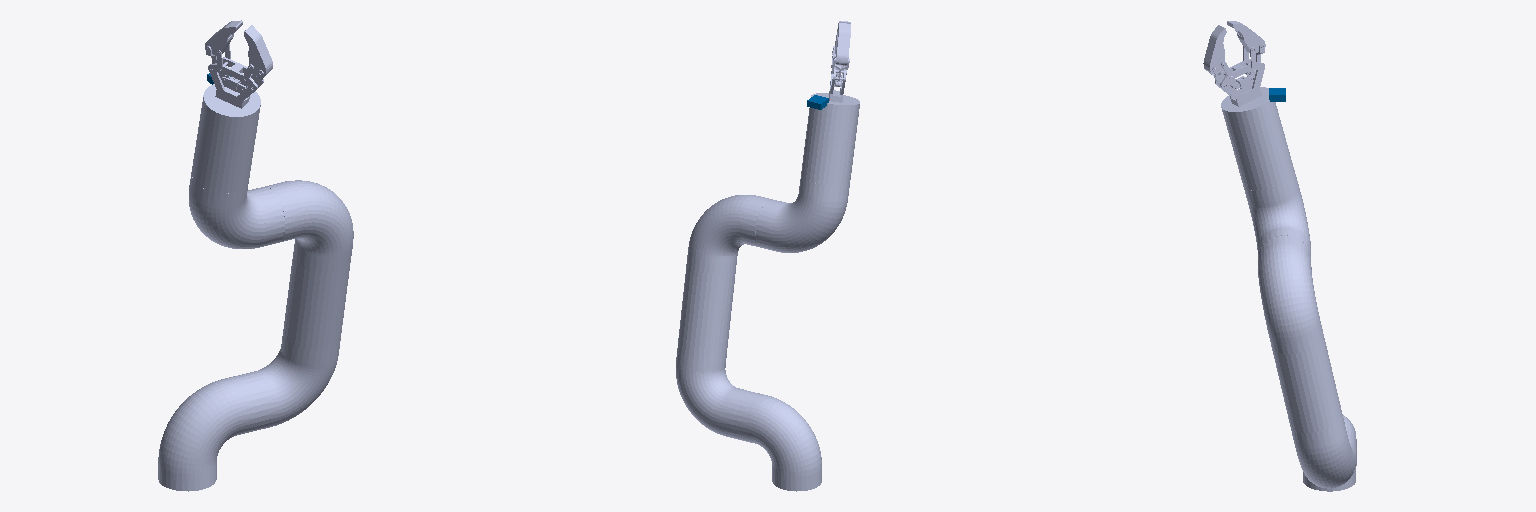
The robot description file, URDF, robot "manipulator_v5":
<?xml version="1.0" encoding="utf-8"?>
<!-- This URDF was automatically created by SolidWorks to URDF Exporter! Originally created by [author] ([email redacted]) 
     Commit Version: 1.6.0-4-g7f85cfe  Build Version: 1.6.7995.38578
     For more information, please see http://wiki.ros.org/sw_urdf_exporter -->
<robot
  name="manipulator_v5">
  <link
    name="base_link">
    <inertial>
      <origin
        xyz="0.051468 -1.797E-16 0.10093"
        rpy="0 0 0" />
      <mass
        value="5.4923" />
      <inertia
        ixx="0.030998"
        ixy="5.2555E-17"
        ixz="-0.013585"
        iyy="0.04605"
        iyz="4.7433E-17"
        izz="0.030998" />
    </inertial>
    <visual>
      <origin
        xyz="0 0 0"
        rpy="0 0 0" />
      <geometry>
        <mesh
          filename="package://manipulator_v5/meshes/base_link.STL" />
      </geometry>
      <material
        name="">
        <color
          rgba="0.79216 0.81961 0.93333 1" />
      </material>
    </visual>
    <collision>
      <origin
        xyz="0 0 0"
        rpy="0 0 0" />
      <geometry>
        <mesh
          filename="package://manipulator_v5/meshes/base_link.STL" />
      </geometry>
    </collision>
  </link>
  <link
    name="joint2_link">
    <inertial>
      <origin
        xyz="0.034953 0.1637 -0.12448"
        rpy="0 0 0" />
      <mass
        value="10.126" />
      <inertia
        ixx="0.076237"
        ixy="-0.0067874"
        ixz="0.0028368"
        iyy="0.045899"
        iyz="0.013286"
        izz="0.062634" />
    </inertial>
    <visual>
      <origin
        xyz="0 0 0"
        rpy="0 0 0" />
      <geometry>
        <mesh
          filename="package://manipulator_v5/meshes/joint2_link.STL" />
      </geometry>
      <material
        name="">
        <color
          rgba="0.79216 0.81961 0.93333 1" />
      </material>
    </visual>
    <collision>
      <origin
        xyz="0 0 0"
        rpy="0 0 0" />
      <geometry>
        <mesh
          filename="package://manipulator_v5/meshes/joint2_link.STL" />
      </geometry>
    </collision>
  </link>
  <joint
    name="joint2"
    type="revolute">
    <origin
      xyz="0.203199999999999 0 0.152400000000001"
      rpy="1.5707963267949 0 -1.5707963267949" />
    <parent
      link="base_link" />
    <child
      link="joint2_link" />
    <axis
      xyz="0 0 -1" />
    <limit
      lower="-6.28318530718"
      upper="6.28318530718"
      effort="150.0"
      velocity="3.14"/>
  </joint>
  <link
    name="joint3_link">
    <inertial>
      <origin
        xyz="0.051468 -0.021293 -0.09866"
        rpy="0 0 0" />
      <mass
        value="5.4923" />
      <inertia
        ixx="0.030998"
        ixy="0.0029002"
        ixz="0.013272"
        iyy="0.04537"
        iyz="-0.0031272"
        izz="0.031678" />
    </inertial>
    <visual>
      <origin
        xyz="0 0 0"
        rpy="0 0 0" />
      <geometry>
        <mesh
          filename="package://manipulator_v5/meshes/joint3_link.STL" />
      </geometry>
      <material
        name="">
        <color
          rgba="0.79216 0.81961 0.93333 1" />
      </material>
    </visual>
    <collision>
      <origin
        xyz="0 0 0"
        rpy="0 0 0" />
      <geometry>
        <mesh
          filename="package://manipulator_v5/meshes/joint3_link.STL" />
      </geometry>
    </collision>
  </link>
  <joint
    name="joint3"
    type="revolute">
    <origin
      xyz="0.0954709005415057 0.447120953601814 -0.1524"
      rpy="1.5707963267949 -1.5707963267949 0" />
    <parent
      link="joint2_link" />
    <child
      link="joint3_link" />
    <axis
      xyz="0 -0.20881649287295 -0.977954841648755" />
    <limit
      lower="-3.14159265359"
      upper="3.14159265359"
      effort="150.0"
      velocity="3.14" />
  </joint>
  <link
    name="joint4_link">
    <inertial>
      <origin
        xyz="0.046412 0.18134 0.12587"
        rpy="0 0 0" />
      <mass
        value="5.666" />
      <inertia
        ixx="0.076347"
        ixy="-0.0080337"
        ixz="-0.0033003"
        iyy="0.046855"
        iyz="-0.013175"
        izz="0.06345" />
    </inertial>
    <visual>
      <origin
        xyz="0 0 0"
        rpy="0 0 0" />
      <geometry>
        <mesh
          filename="package://manipulator_v5/meshes/joint4_link.STL" />
      </geometry>
      <material
        name="">
        <color
          rgba="0.79216 0.81961 0.93333 1" />
      </material>
    </visual>
    <collision>
      <origin
        xyz="0 0 0"
        rpy="0 0 0" />
      <geometry>
        <mesh
          filename="package://manipulator_v5/meshes/joint4_link.STL" />
      </geometry>
    </collision>
  </link>
  <joint
    name="joint4"
    type="revolute">
    <origin
      xyz="0.203198117462181 -0.0326790281115857 -0.148857670885751"
      rpy="-1.5707963267949 0 -1.5707963267949" />
    <parent
      link="joint3_link" />
    <child
      link="joint4_link" />
    <axis
      xyz="0.00420961908341663 -0.000898853255685867 0.999990735542084" />
    <limit
      lower="-6.28318530718"
      upper="6.28318530718"
      effort="28.0"
      velocity="6.28" />
  </joint>

<joint name="camera_joint" type="fixed">
    <origin xyz="0.02 0.4395 0.14" rpy="-1.57 3.14 0"/>
    <parent link="joint4_link"/>
    <child link="camera_link"/>
</joint>

<link name="camera_link">
    <visual>
      <geometry>
        <box size="0.05 0.05 0.02"/>
      </geometry>
      <material name="red"/>
    </visual>
</link>

<joint name="camera_optical_joint" type="fixed">
    <origin xyz="0 0 0" rpy="-1.57 -1.57 -1.57"/>
    <parent link="camera_link"/>
    <child link="camera_optical_link"/>
</joint>

<link name="camera_optical_link">
</link>

<transmission name="joint2_transmission">
  <type>transmission_interface/SimpleTransmission</type>
  <joint name="joint2">
    <hardwareInterface>EffortJointInterface</hardwareInterface>
  </joint>
  <actuator name="joint2_motor">
    <mechanicalReduction>1</mechanicalReduction>
  </actuator>
</transmission>

<transmission name="joint3_transmission">
  <type>transmission_interface/SimpleTransmission</type>
  <joint name="joint3">
    <hardwareInterface>EffortJointInterface</hardwareInterface>
  </joint>
  <actuator name="joint3_motor">
    <mechanicalReduction>1</mechanicalReduction>
  </actuator>
</transmission>

<transmission name="joint4_transmission">
  <type>transmission_interface/SimpleTransmission</type>
  <joint name="joint4">
    <hardwareInterface>EffortJointInterface</hardwareInterface>
  </joint>
  <actuator name="joint4_motor">
    <mechanicalReduction>1</mechanicalReduction>
  </actuator>
</transmission>

<gazebo reference="camera_optical_link">
		<!-- <gravity>true</gravity> -->
		<!-- Gazebo has fixed set of Sensors types. Check them out here <> -->
		<sensor name="camera" type="camera"> 
			<!-- Add in your sensor characteristics -->
			<pose> 0 0 0 0 0 0 </pose>
			<visualise>true</visualise>
			<update_rate>40</update_rate>
			<!-- <always_on>true</always_on> -->
        <camera>
                    <horizontal_fov>1.089</horizontal_fov>
                    <image>
                        <width>640</width>
                        <height>480</height>
                        <format>R8G8B8</format>
                    </image>
                    <clip>
                        <near>0.02</near>
                        <far>300</far>
                    </clip>
          </camera>
      <plugin name="camera_controller" filename="libgazebo_ros_camera.so">
            	<!-- Use topic name as /my_robot/scan -->
				<topicName></topicName> 
				<frameName>camera_optical_link</frameName>
			</plugin>
		</sensor>
	</gazebo>
</robot>

--- Render facts (derived) ---
3 views of the same robot in one strip: view 1: azimuth 30°, elevation 25°; view 2: azimuth 150°, elevation 25°; view 3: azimuth 270°, elevation 25° (orthographic).
Model manipulator_v5 with 6 links and 5 joints (3 revolute, 2 fixed), rooted at base_link, posed every joint at zero.
Visible links, largest first — view 1: joint4_link, joint2_link, base_link, joint3_link; view 2: joint4_link, joint2_link, base_link, joint3_link; view 3: joint4_link, joint2_link, joint3_link.
Boxes of the visible links, x1,y1,x2,y2 form: joint4_link: (189,20,284,248); joint2_link: (242,251,350,430); base_link: (158,375,260,491); joint3_link: (265,180,353,271); joint4_link: (755,21,859,252); joint2_link: (676,265,750,439); base_link: (734,392,821,491); joint3_link: (686,195,772,273); joint4_link: (1203,21,1310,253); joint2_link: (1272,338,1356,488); joint3_link: (1258,235,1323,353).
Size in the robot's own frame: 0.508 by 0.4343 by 1.43 metres.
Meshes: 4 distinct files referenced, 4 mesh visuals loaded (4 binary STL).
